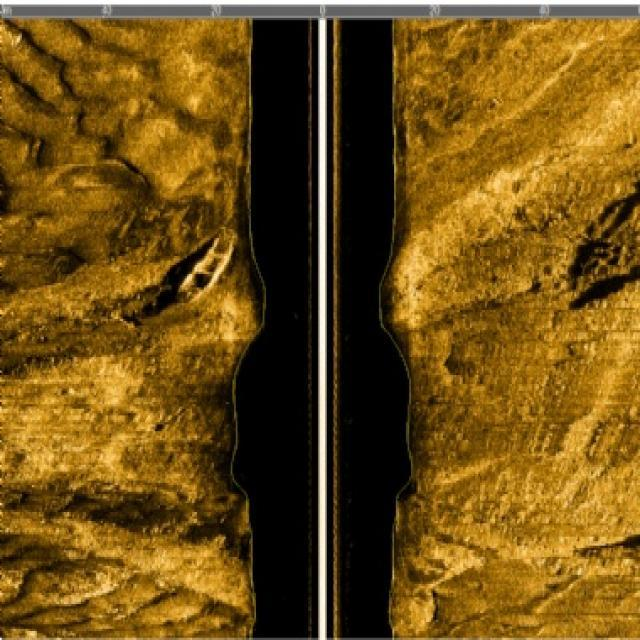shipwreck: (173, 224, 236, 306)
